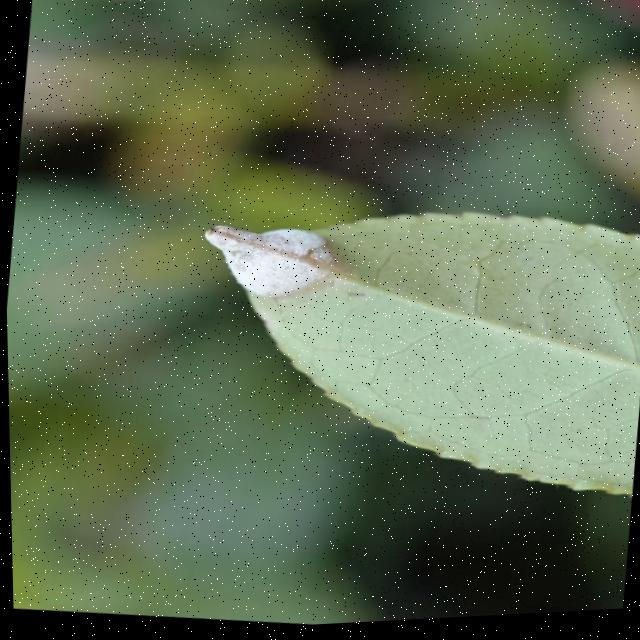Tea cake: (193, 203, 350, 310)
